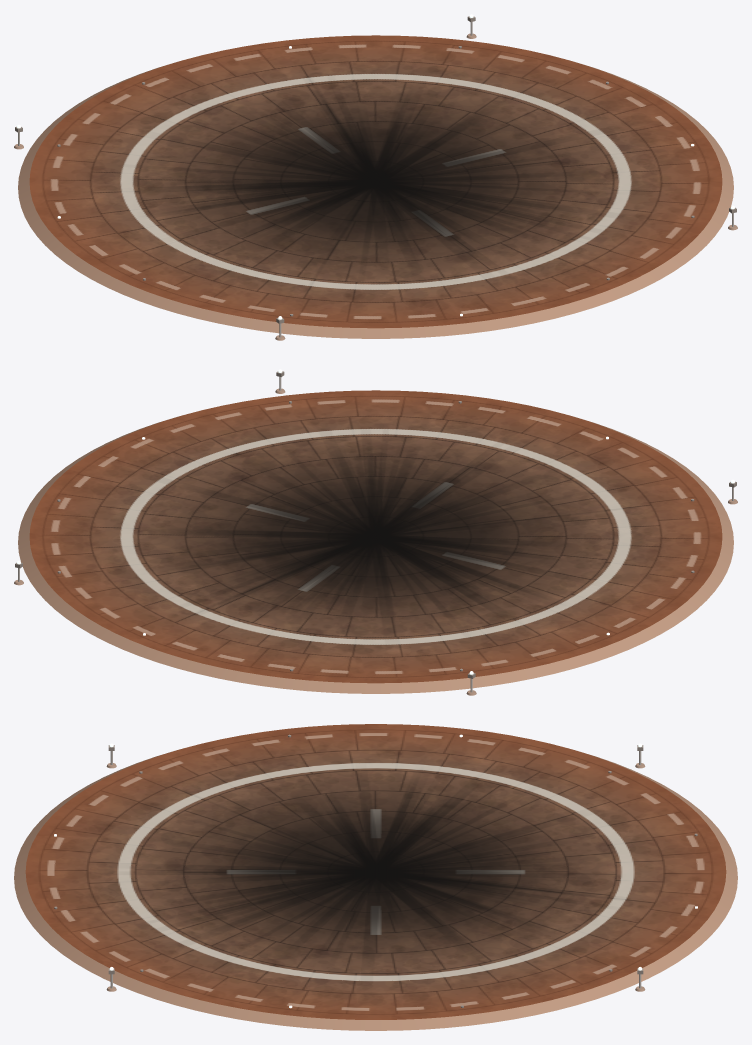
Rendered from R01_landing_pad_simple.glb.
3 views of the same model, one above another, from view 1: azimuth 30°, elevation 25°; view 2: azimuth 150°, elevation 25°; view 3: azimuth 270°, elevation 25° (orthographic).
Visible parts, largest first — view 1: pad; view 2: pad; view 3: pad.
Boxes of the visible parts, box(x1,y1,x2,y2) form: pad: box(18, 35, 733, 338); pad: box(18, 390, 733, 693); pad: box(14, 724, 737, 1030).
Bounding box in the file's own units: 31 × 1.07 × 31.
6 materials, 1 textured.
